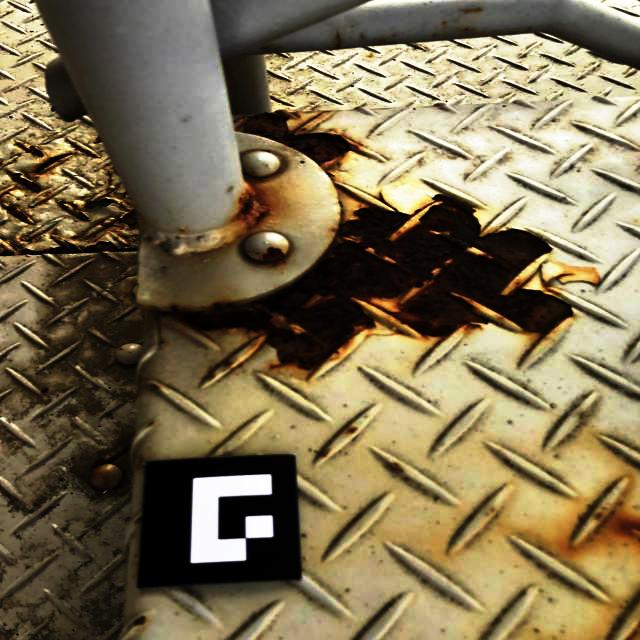Corrosion: (163, 197, 571, 370), (238, 113, 354, 169), (0, 234, 140, 257), (89, 440, 131, 484), (233, 186, 274, 225), (29, 152, 74, 175), (11, 171, 41, 192), (256, 245, 288, 264), (115, 207, 139, 231), (82, 196, 117, 210), (6, 205, 30, 221), (21, 143, 45, 158), (57, 199, 78, 211), (133, 616, 146, 626), (77, 211, 90, 220), (0, 189, 14, 197), (335, 31, 341, 49), (346, 427, 359, 435), (221, 362, 232, 366), (0, 160, 5, 165)
